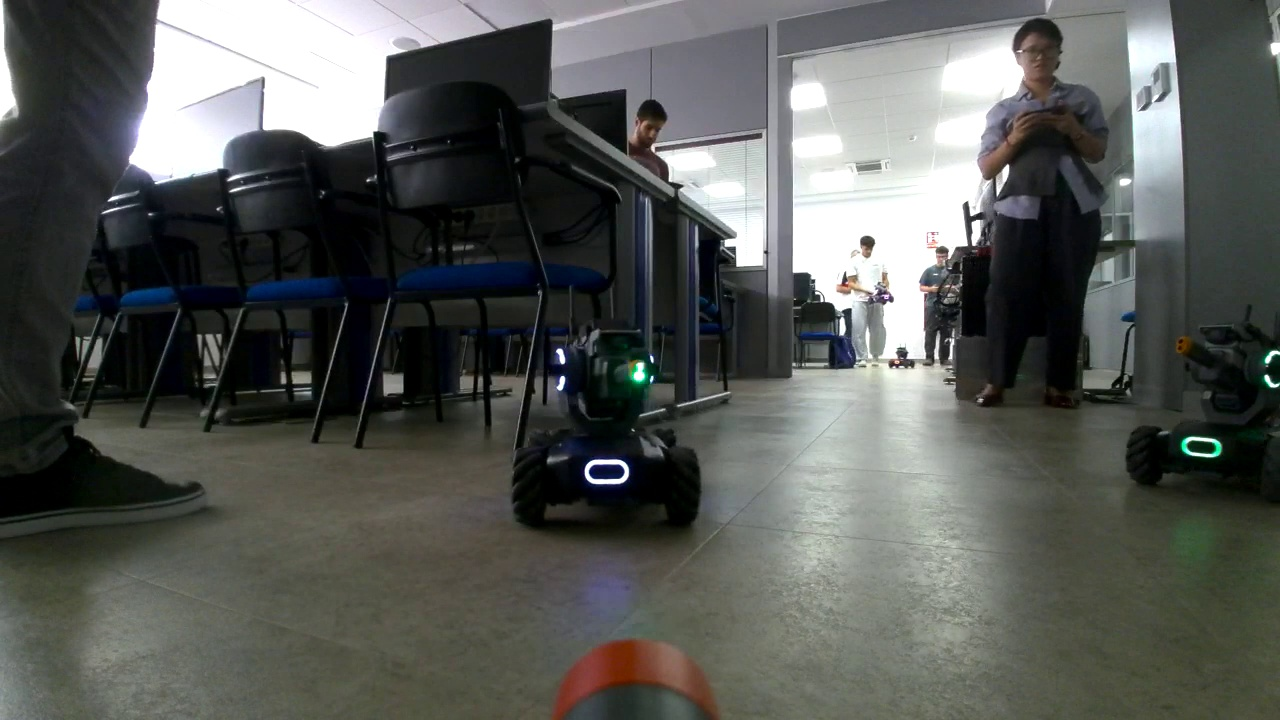robot: (510, 288, 701, 523), (1126, 304, 1280, 486), (888, 344, 915, 370), (868, 283, 893, 303)
